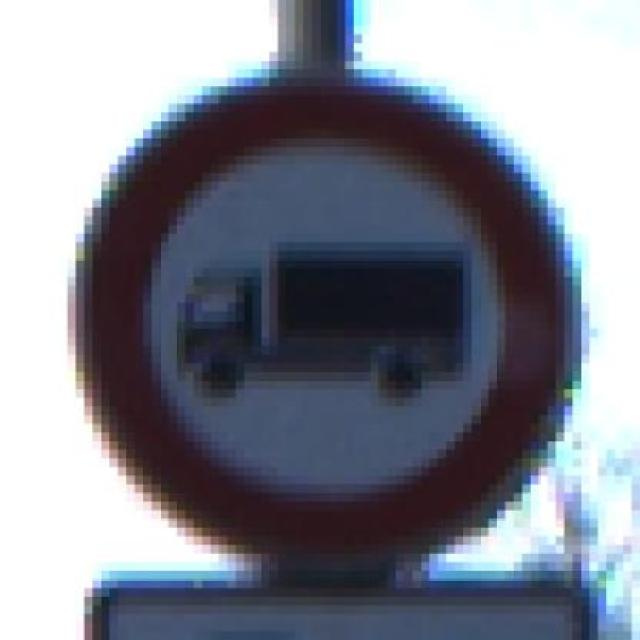Truck traffic is prohibited: (50, 80, 598, 555)
